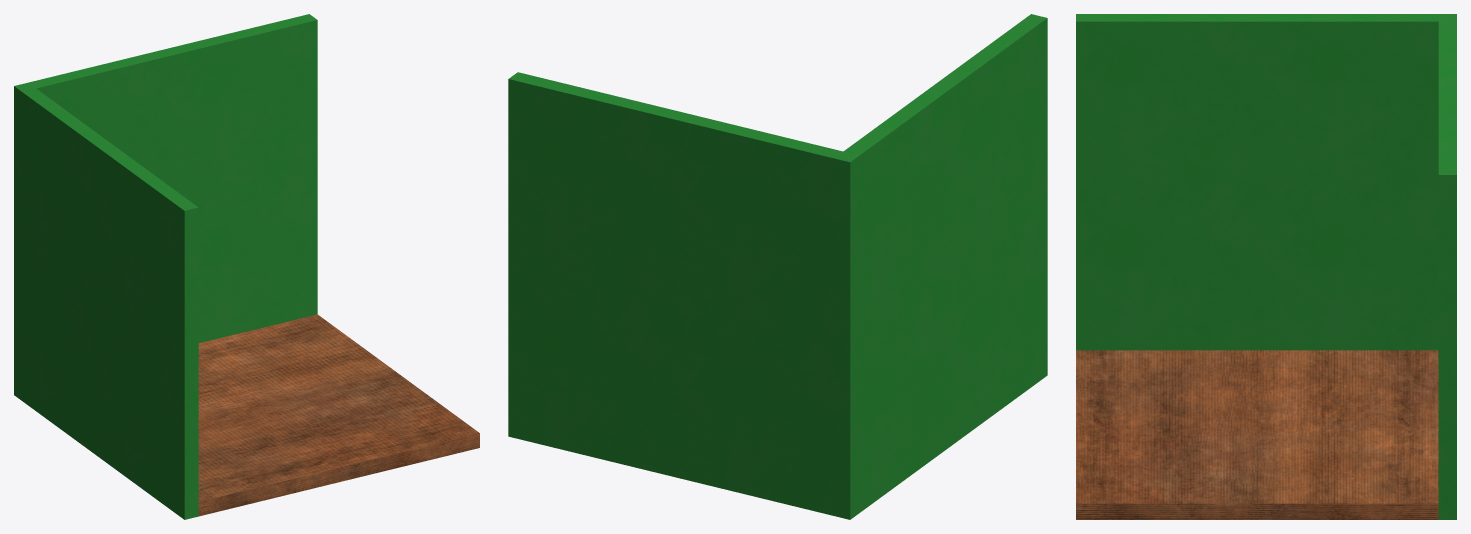
Rendered from room_final.obj.
3 renders of one model, left to right at view 1: azimuth 30°, elevation 25°; view 2: azimuth 150°, elevation 25°; view 3: azimuth 270°, elevation 25°, orthographic. The views are drawn at different scales.
Parts seen in each view (by area): view 1: _; view 2: _; view 3: _.
Part boxes in pixels (left/top/right/bottom): _: left=14, top=14, right=479, bottom=519; _: left=508, top=14, right=1047, bottom=519; _: left=1076, top=14, right=1456, bottom=519.
Bounding box in the file's own units: 42 × 42 × 42.
1 material, 1 textured.
